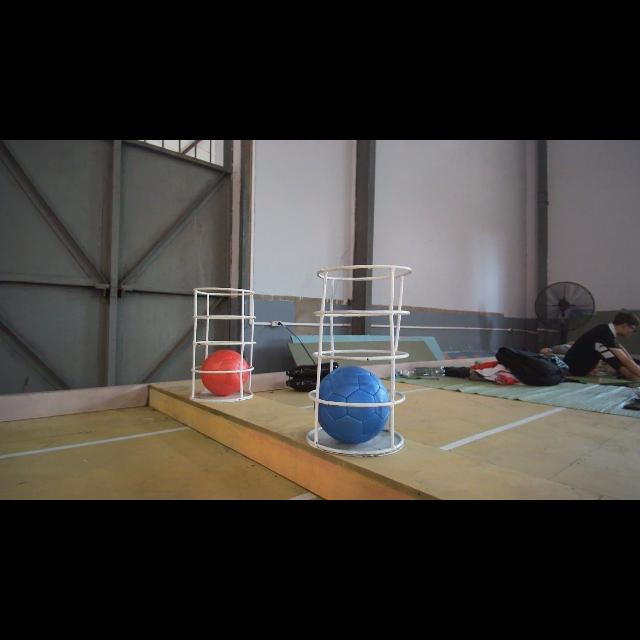B: (317, 364, 389, 442)
R: (200, 350, 248, 394)
